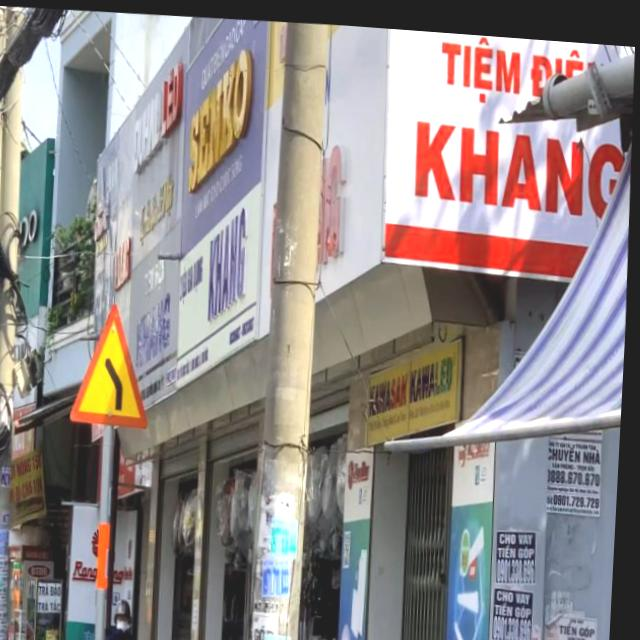cho ngoat nguy hiem vong ben trai: (71, 295, 158, 429)
